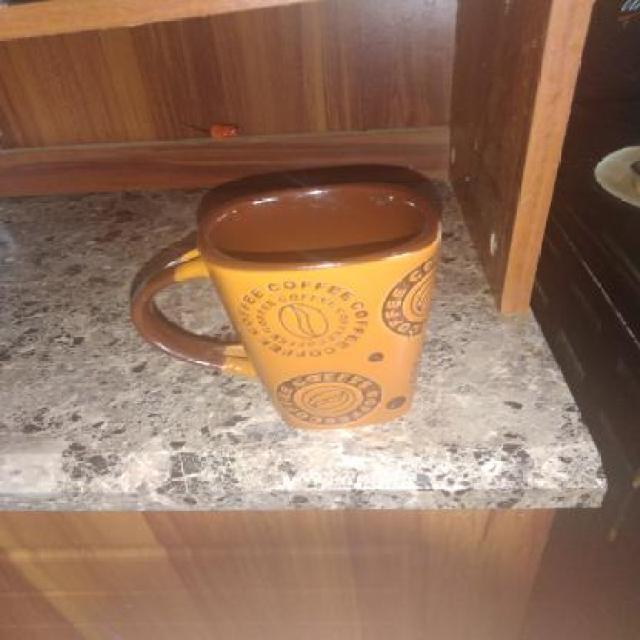cup: (118, 176, 458, 430)
